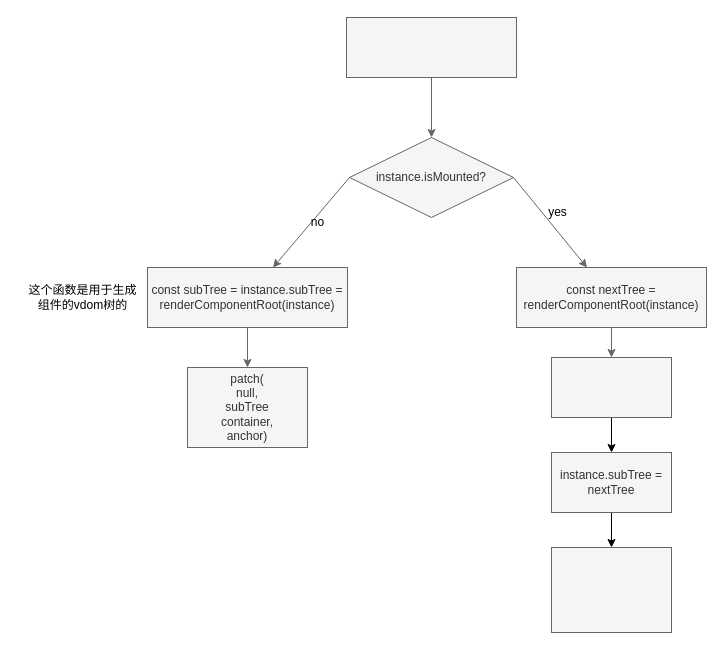
Some shapes in this 724 by 650 pixel diagram are drawn without their labels. The centre of each missing label's shape, as x and y in pixels:
componentUpdateFn(): point (431, 47)
const prevTree = instance.subTree: point (611, 387)
patch( prevTree, nextTree, container, anchor): point (611, 589)
